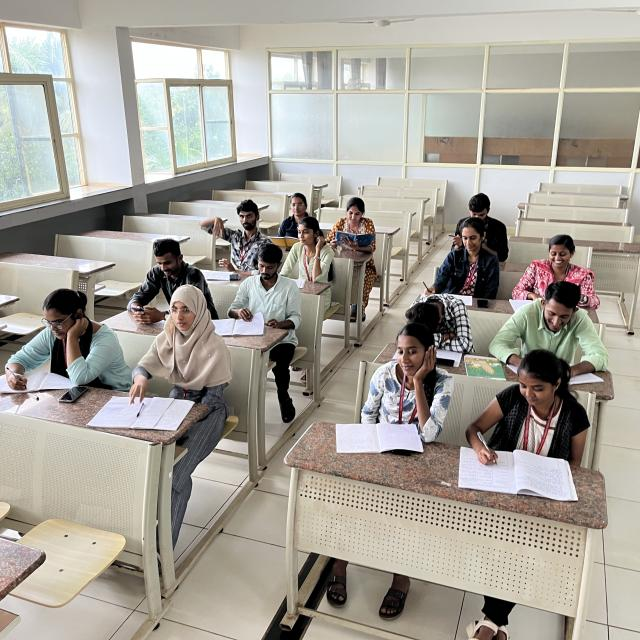Hand Rising: (207, 195, 264, 263), (293, 217, 339, 286)
Reading: (509, 233, 601, 306), (324, 191, 385, 267)
Sleeping: (379, 291, 476, 347)
Using Phone: (120, 230, 207, 330)
Writing: (0, 279, 116, 412), (468, 353, 583, 482), (127, 282, 225, 428), (212, 242, 293, 339)
